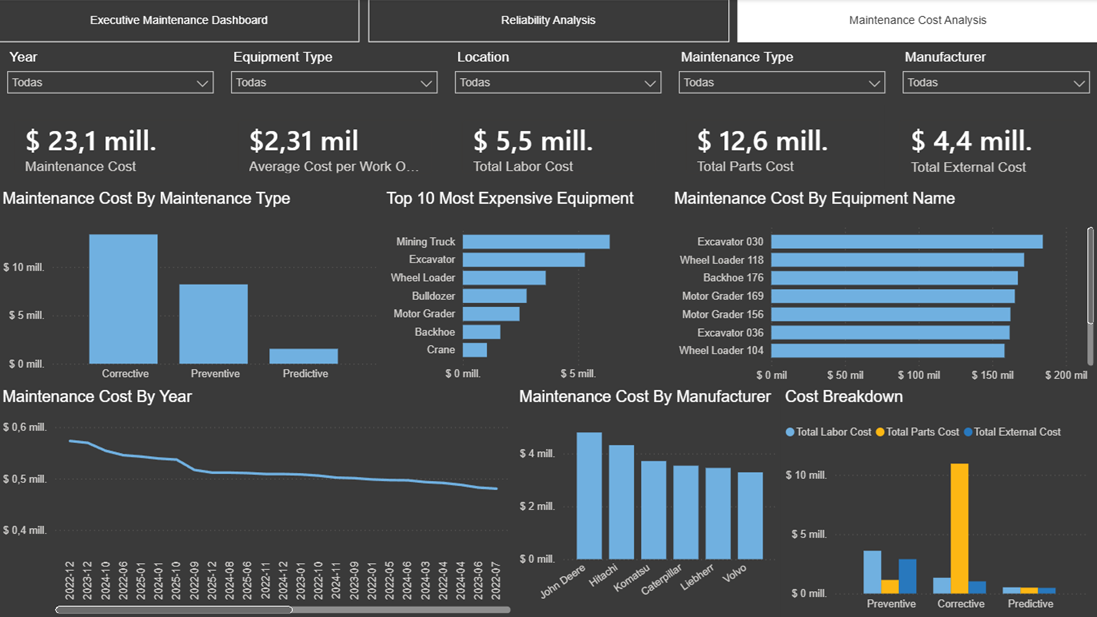

This screenshot's page, from the dashboard's own definition file:
{"tool":"powerbi","page":{"name":"Maintenance Cost Analysis","canvas":[1280,720],"ordinal":2},"visuals":[{"type":"slicer","fields":{"Values":["Calendar.Year"]},"box":[-0.2,54,260,70],"z":0},{"type":"slicer","fields":{"Values":["EQUIPMENT.Equipment Type"]},"box":[260.2,54,260,70],"z":1000},{"type":"slicer","fields":{"Values":["EQUIPMENT.Location"]},"box":[520.7,54,260,70],"z":2000},{"type":"slicer","fields":{"Values":["WORKORDERS.Maintenance Type"]},"box":[781.2,54,260.5,69.8],"z":3000},{"type":"slicer","fields":{"Values":["EQUIPMENT.Manufacturer"]},"box":[1041.4,54,238.4,69.8],"z":4000},{"type":"cardVisual","fields":{"Data":["MeasuresM.Total Maintenance Cost"]},"box":[1.2,123.3,260.5,97.7],"z":5000},{"type":"cardVisual","fields":{"Data":["MeasuresM.Average Cost per Work Order"]},"box":[261.6,123.3,260.5,97.7],"z":6000},{"type":"cardVisual","fields":{"Data":["MeasuresM.Total Labor Cost"]},"box":[522.1,123.3,260.5,97.7],"z":7000},{"type":"cardVisual","fields":{"Data":["MeasuresM.Total Parts Cost"]},"box":[782.6,123.3,260.5,97.7],"z":8000},{"type":"cardVisual","fields":{"Data":["MeasuresM.Total External Cost"]},"box":[1031.4,123.3,248.8,98.8],"z":9000},{"type":"lineChart","title":"Maintenance Cost By Year","fields":{"Category":["Calendar.YearMonth"],"Y":["MeasuresM.Total Maintenance Cost"]},"box":[0,452.3,601.2,267.4],"z":10000},{"type":"columnChart","title":"Maintenance Cost By Maintenance Type","fields":{"Category":["WORKORDERS.Maintenance Type"],"Y":["MeasuresM.Total Maintenance Cost"]},"box":[0,220.9,446.5,231.4],"z":11000},{"type":"barChart","title":"Top 10 Most Expensive Equipment","fields":{"Category":["EQUIPMENT.Equipment Type"],"Y":["MeasuresM.Total Maintenance Cost"]},"box":[446.5,220.9,334.9,231.4],"z":12000},{"type":"columnChart","title":"Maintenance Cost By Manufacturer","fields":{"Category":["EQUIPMENT.Manufacturer"],"Y":["MeasuresM.Total Maintenance Cost"]},"box":[601.2,452.3,309.3,267.4],"z":13000},{"type":"barChart","title":"Maintenance Cost By Equipment Name","fields":{"Category":["EQUIPMENT.Equipment Name"],"Y":["MeasuresM.Total Maintenance Cost"]},"box":[781.4,220.9,498.8,232.6],"z":14000},{"type":"clusteredColumnChart","title":"Cost Breakdown","fields":{"Category":["WORKORDERS.Maintenance Type"],"Y":["MeasuresM.Total Labor Cost","MeasuresM.Total Parts Cost","MeasuresM.Total External Cost"]},"box":[910.5,452.3,360.5,267.4],"z":15000},{"type":"pageNavigator","box":[0,0,1280.2,50],"z":15001}]}

Visuals, with their boxes on the page's 1280x720 design canvas (x1, y1, x2, y2). These are canvas units, not pixel positions in the 1097x617 screenshot, which may show the page scaled, cropped or inside an application window:
slicer - Calendar.Year: Rect(0, 54, 260, 124)
slicer - EQUIPMENT.Equipment Type: Rect(260, 54, 520, 124)
slicer - EQUIPMENT.Location: Rect(521, 54, 781, 124)
slicer - WORKORDERS.Maintenance Type: Rect(781, 54, 1042, 124)
slicer - EQUIPMENT.Manufacturer: Rect(1041, 54, 1280, 124)
cardVisual - MeasuresM.Total Maintenance Cost: Rect(1, 123, 262, 221)
cardVisual - MeasuresM.Average Cost per Work Order: Rect(262, 123, 522, 221)
cardVisual - MeasuresM.Total Labor Cost: Rect(522, 123, 783, 221)
cardVisual - MeasuresM.Total Parts Cost: Rect(783, 123, 1043, 221)
cardVisual - MeasuresM.Total External Cost: Rect(1031, 123, 1280, 222)
"Maintenance Cost By Year" lineChart: Rect(0, 452, 601, 720)
"Maintenance Cost By Maintenance Type" columnChart: Rect(0, 221, 446, 452)
"Top 10 Most Expensive Equipment" barChart: Rect(446, 221, 781, 452)
"Maintenance Cost By Manufacturer" columnChart: Rect(601, 452, 910, 720)
"Maintenance Cost By Equipment Name" barChart: Rect(781, 221, 1280, 454)
"Cost Breakdown" clusteredColumnChart: Rect(910, 452, 1271, 720)
pageNavigator: Rect(0, 0, 1280, 50)
